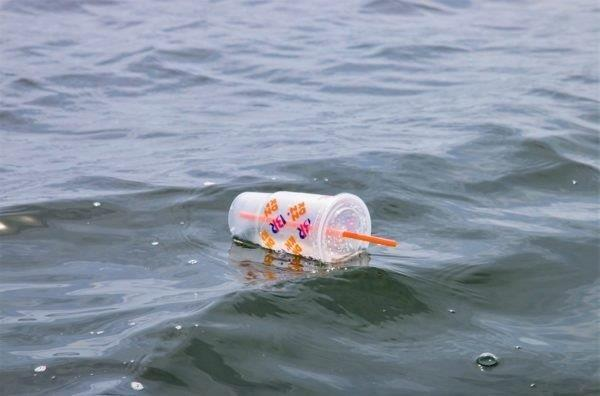plastic: (229, 190, 397, 267)
